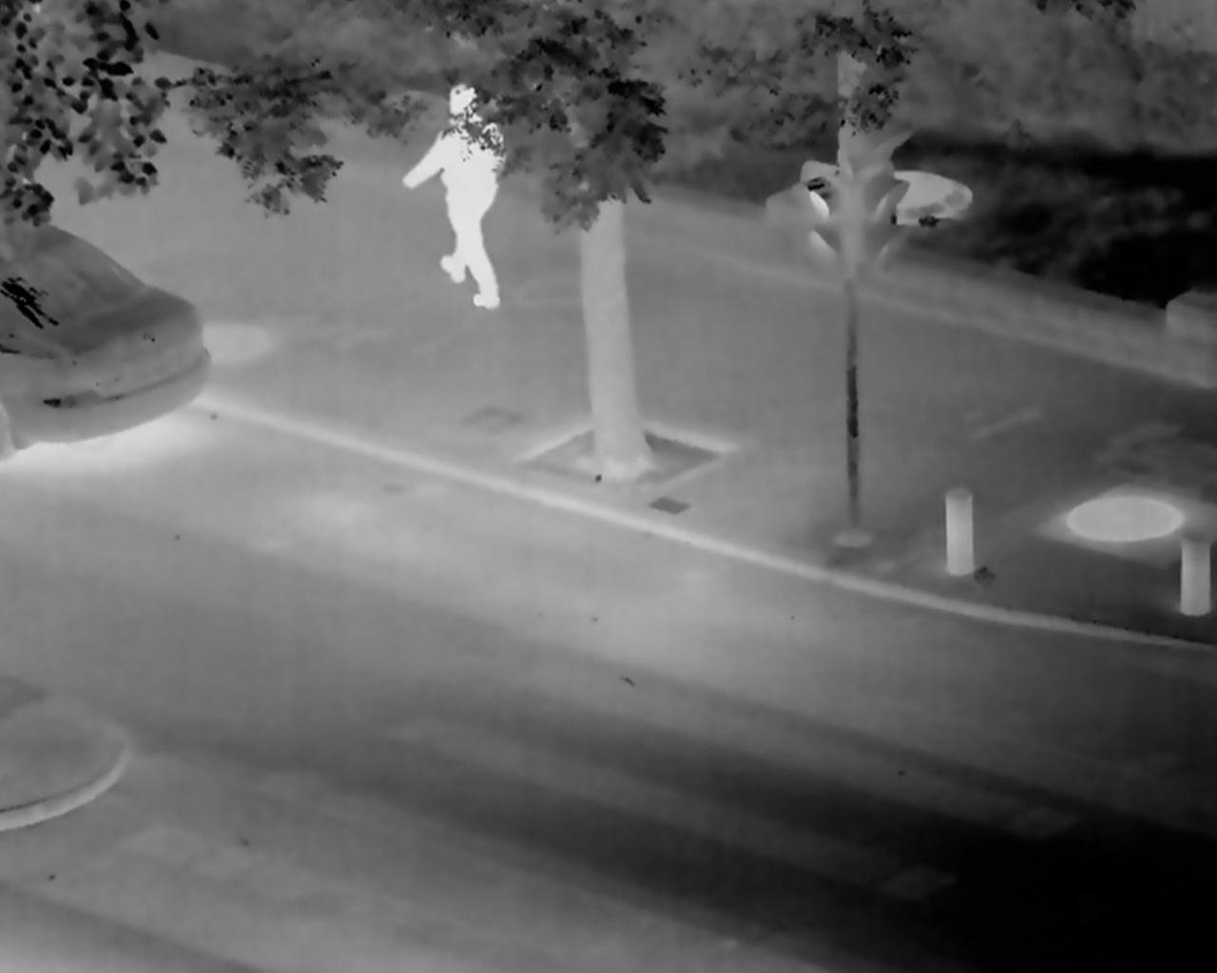person: (410, 90, 543, 332)
